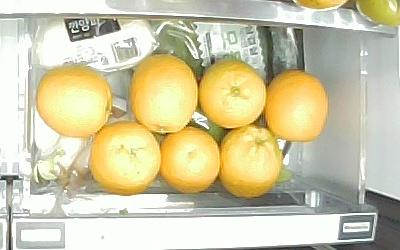orange: (87, 120, 162, 196), (36, 62, 111, 137), (128, 54, 197, 134), (198, 58, 267, 129), (264, 69, 328, 144), (220, 126, 283, 198), (161, 126, 220, 194)
